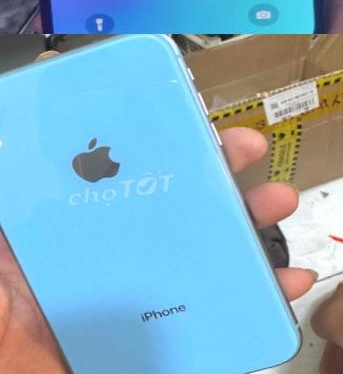scratch: (149, 63, 198, 102), (118, 34, 157, 47), (0, 83, 8, 117)
